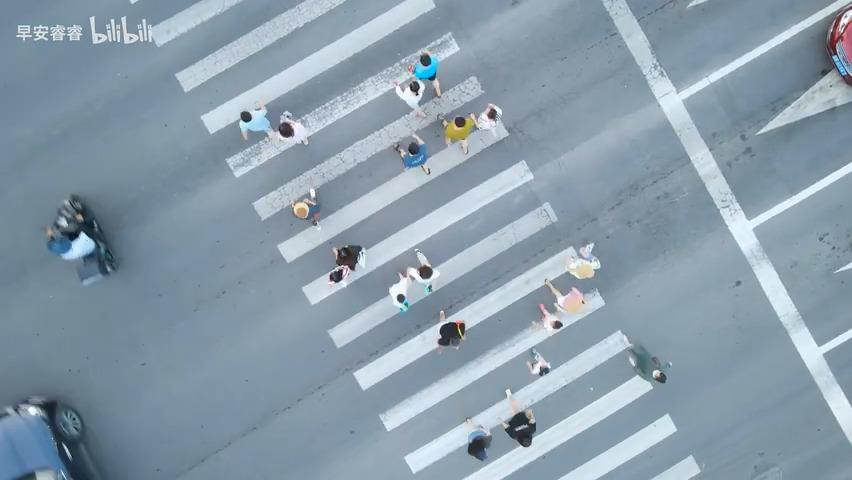Civilian: (497, 388, 536, 447), (45, 224, 96, 261), (400, 248, 440, 293), (392, 132, 431, 175), (440, 111, 478, 155), (407, 50, 441, 97), (543, 277, 585, 314), (238, 99, 274, 141), (392, 77, 427, 118), (435, 309, 466, 353), (565, 241, 600, 279), (289, 188, 321, 229), (626, 348, 666, 380), (464, 416, 492, 461), (277, 110, 309, 145), (388, 270, 412, 312), (530, 302, 563, 330), (332, 244, 366, 271), (470, 103, 502, 130), (525, 347, 551, 376), (327, 264, 350, 286)
